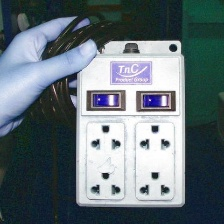three_eye_plug: (69, 47, 188, 208)
